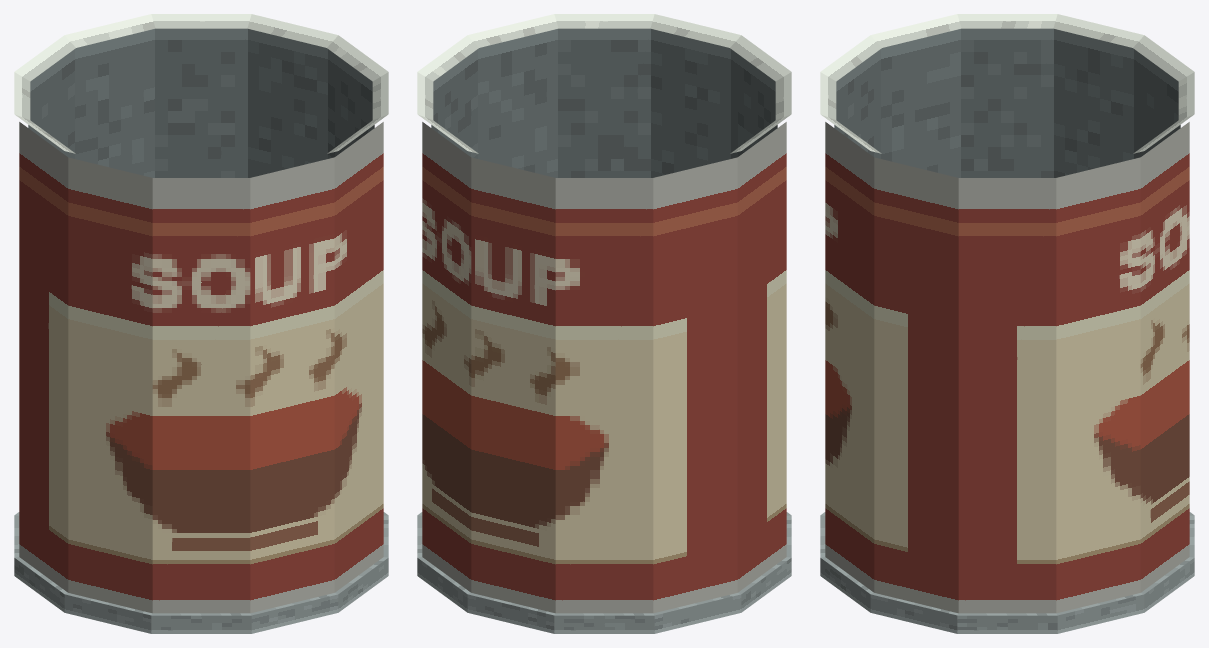
Rendered from can_medium.glb.
3 views of the same model, side by side, from view 1: azimuth 30°, elevation 25°; view 2: azimuth 150°, elevation 25°; view 3: azimuth 270°, elevation 25° (orthographic).
Parts seen in each view (by area): view 1: block_illustrated wraparound can label, block_uncovered empty can interior, block_rolled steel base, block_rolled open rim; view 2: block_illustrated wraparound can label, block_uncovered empty can interior, block_rolled steel base, block_rolled open rim; view 3: block_illustrated wraparound can label, block_uncovered empty can interior, block_rolled steel base, block_rolled open rim.
Boxes of the visible parts, left/top/right/bottom form: block_illustrated wraparound can label: left=19, top=122, right=383, bottom=613; block_uncovered empty can interior: left=28, top=28, right=374, bottom=177; block_rolled steel base: left=14, top=512, right=388, bottom=633; block_rolled open rim: left=14, top=14, right=388, bottom=153; block_illustrated wraparound can label: left=422, top=122, right=786, bottom=613; block_uncovered empty can interior: left=431, top=28, right=777, bottom=177; block_rolled steel base: left=417, top=512, right=791, bottom=633; block_rolled open rim: left=417, top=14, right=791, bottom=153; block_illustrated wraparound can label: left=825, top=122, right=1189, bottom=613; block_uncovered empty can interior: left=834, top=28, right=1180, bottom=177; block_rolled steel base: left=820, top=512, right=1194, bottom=633; block_rolled open rim: left=820, top=14, right=1194, bottom=153.
Size of the model in its own units: 0.0735 by 0.1 by 0.0735.
1 material, 1 textured.
